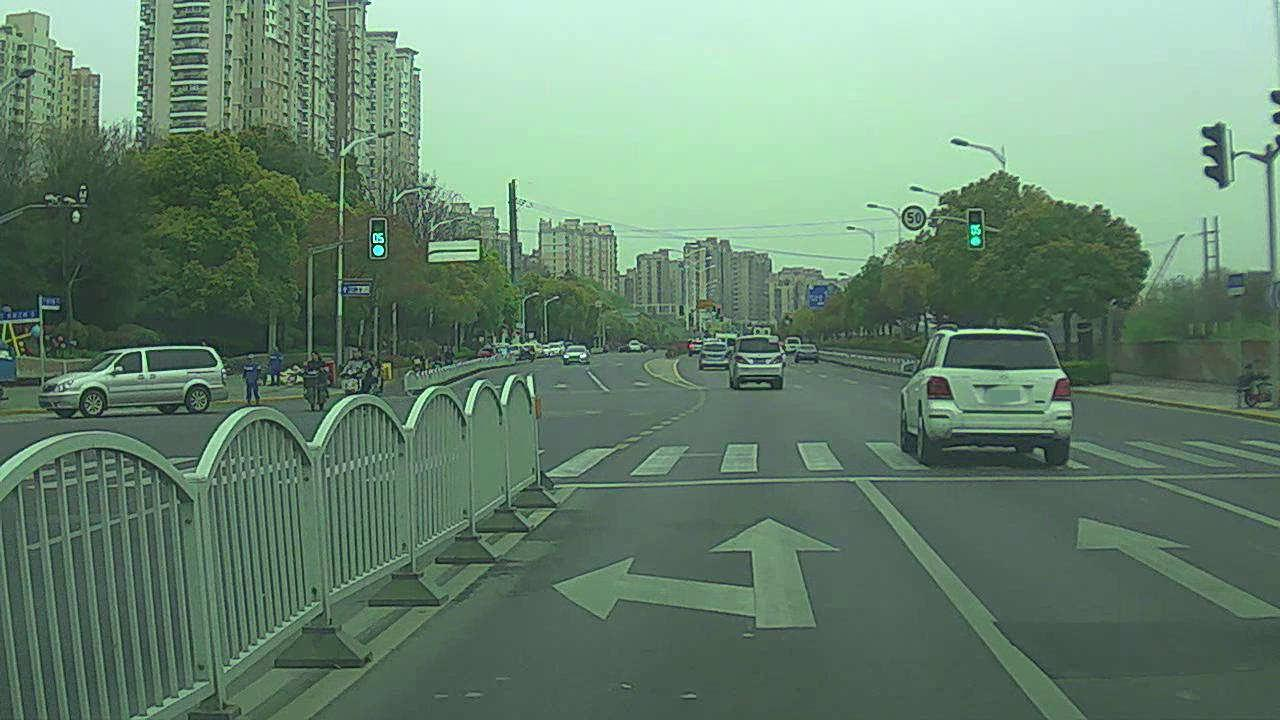traffic_light: (967, 205, 987, 247), (372, 213, 389, 261)
